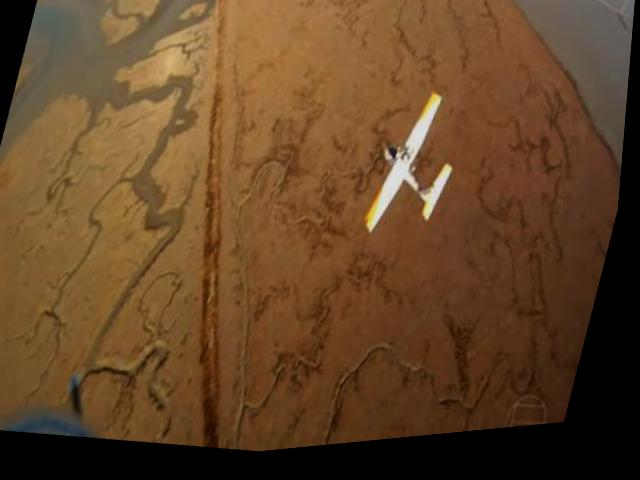uav: (352, 82, 481, 259)
